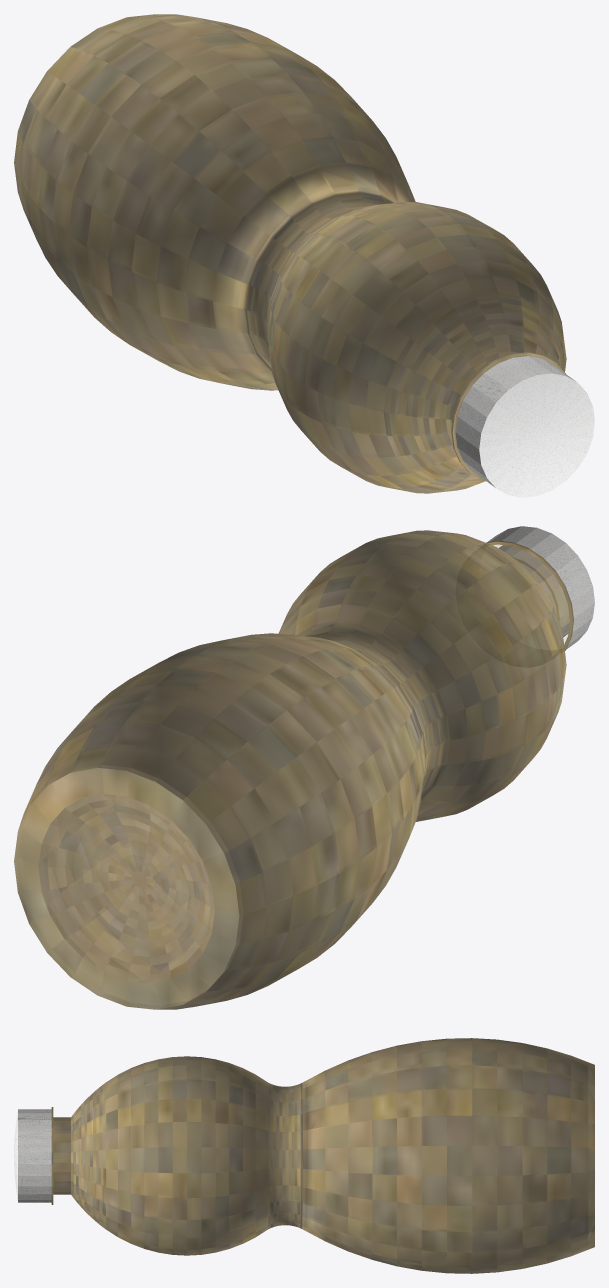
File: model_align.obj
The picture shows the model from 3 angles, top to bottom: view 1: azimuth 30°, elevation 25°; view 2: azimuth 150°, elevation 25°; view 3: azimuth 270°, elevation 25°; orthographic projection. The views are drawn at different scales.
Parts seen in each view (by area): view 1: mesh1_mesh1-geometry; view 2: mesh1_mesh1-geometry; view 3: mesh1_mesh1-geometry.
Boxes of the visible parts, bbox=[...] form: mesh1_mesh1-geometry: bbox=[14, 14, 594, 497]; mesh1_mesh1-geometry: bbox=[14, 526, 594, 1009]; mesh1_mesh1-geometry: bbox=[14, 1038, 594, 1273].
Bounding box in the file's own units: 0.0972 × 0.0972 × 0.2388.
